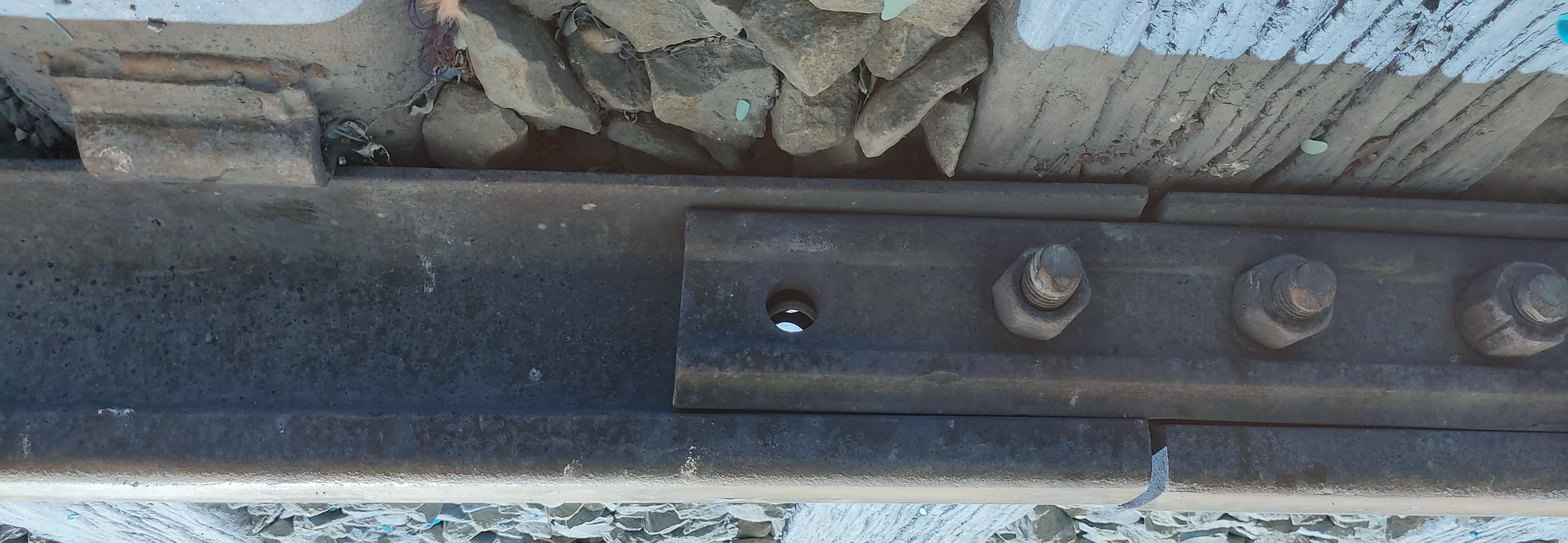duan lie: (1110, 421, 1190, 516)
loss: (36, 54, 337, 204)
